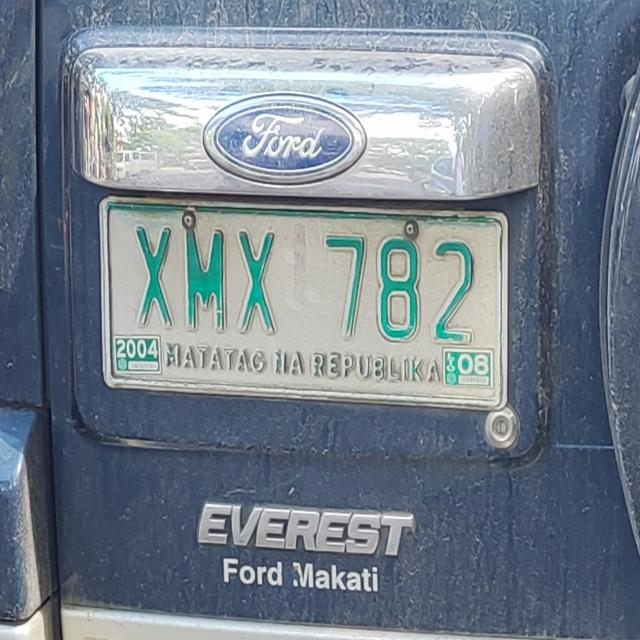plate: (95, 190, 513, 419)
